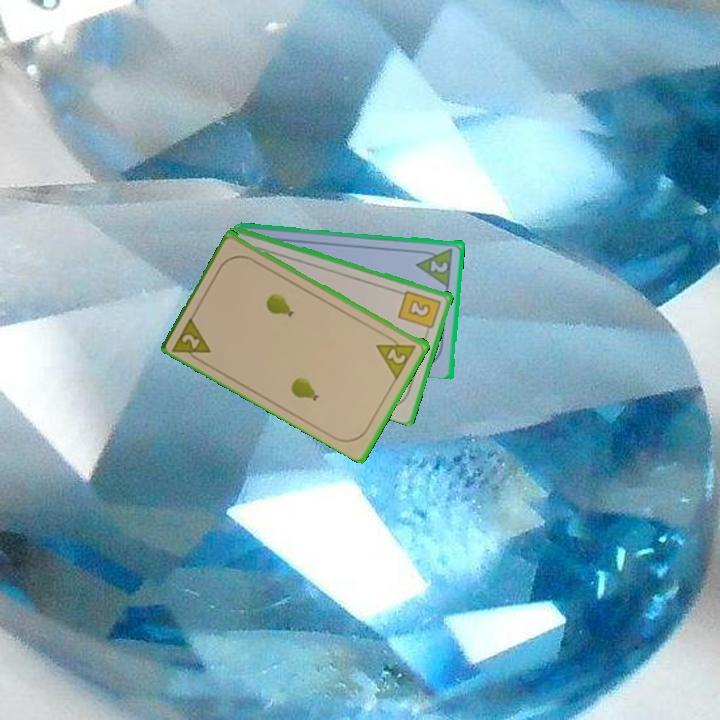2b: (395, 286, 444, 337)
2p: (169, 312, 215, 367), (373, 331, 420, 381), (413, 244, 456, 288)
